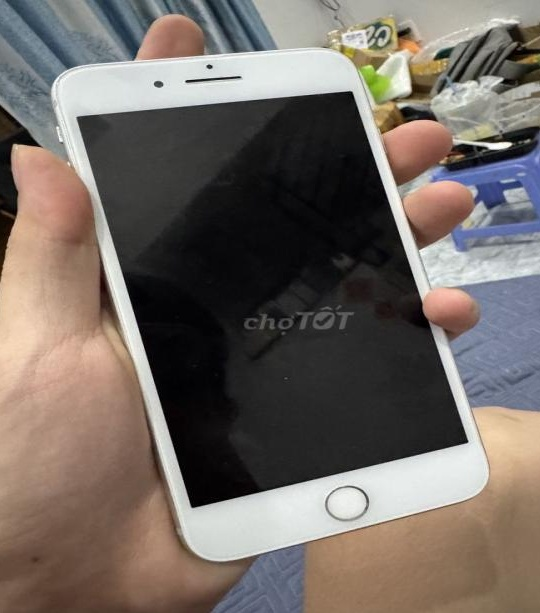scratch: (56, 62, 86, 84)
